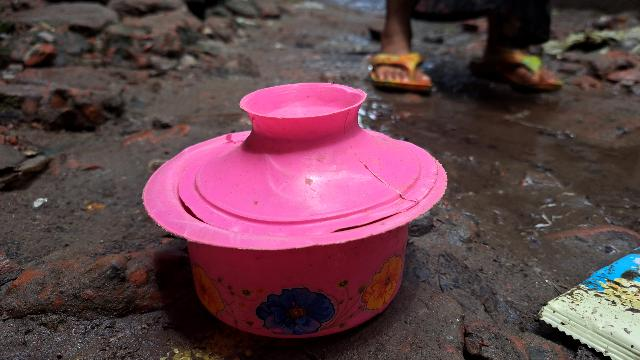hardplastic: (155, 142, 434, 314)
